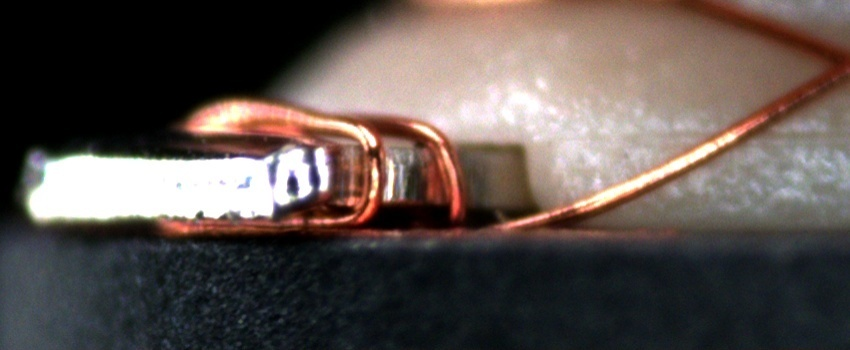CL: (803, 30, 849, 93)
DL: (542, 103, 850, 167)
TE: (168, 88, 480, 230)
